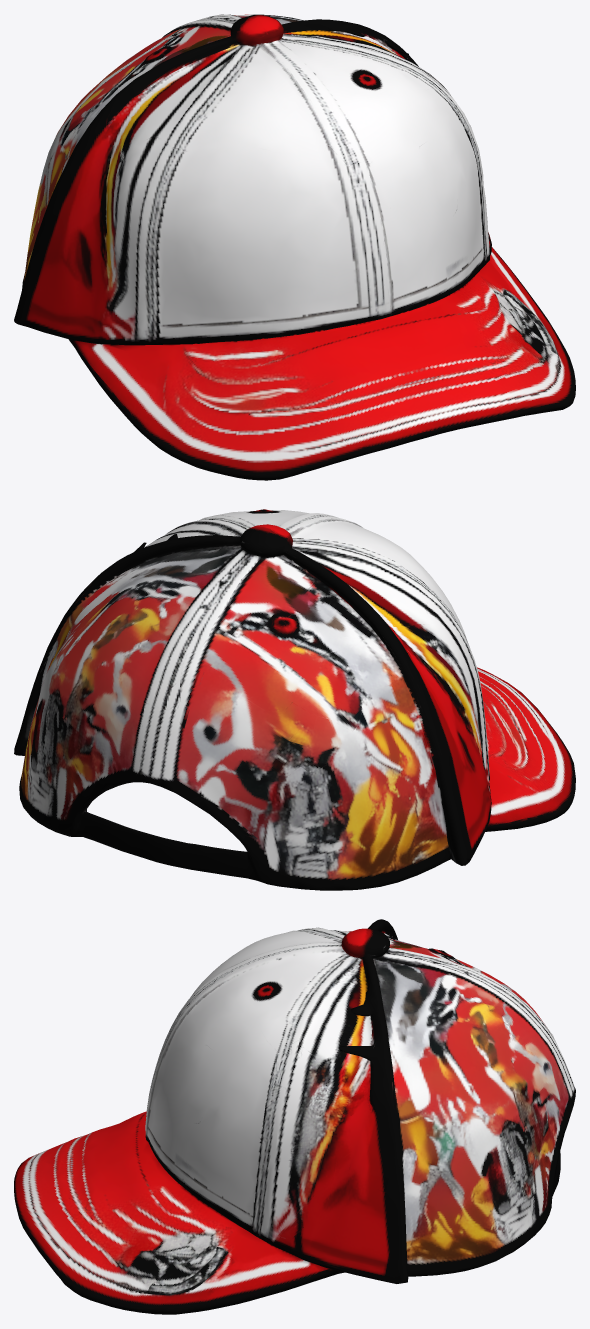
File: cap3d.glb
The picture shows the model from 3 angles, top to bottom: view 1: azimuth 30°, elevation 25°; view 2: azimuth 150°, elevation 25°; view 3: azimuth 270°, elevation 25°; orthographic projection. The views are drawn at different scales.
Parts seen in each view (by area): view 1: geometry_0; view 2: geometry_0; view 3: geometry_0.
Boxes of the visible parts, bbox=[...] form: geometry_0: bbox=[14, 14, 575, 480]; geometry_0: bbox=[14, 509, 575, 890]; geometry_0: bbox=[14, 919, 575, 1314].
Size of the model in its own units: 0.8677 by 0.5801 by 0.9999.
1 material, 1 textured.
